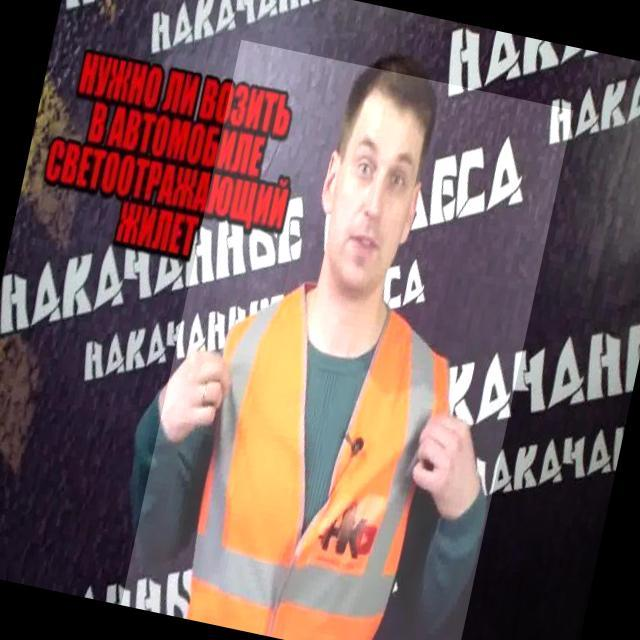Person: (122, 39, 512, 640)
Safety Vest: (161, 287, 457, 640)
bare-arms: (153, 336, 239, 460), (403, 393, 481, 511)
no-helmet: (342, 48, 447, 110)
